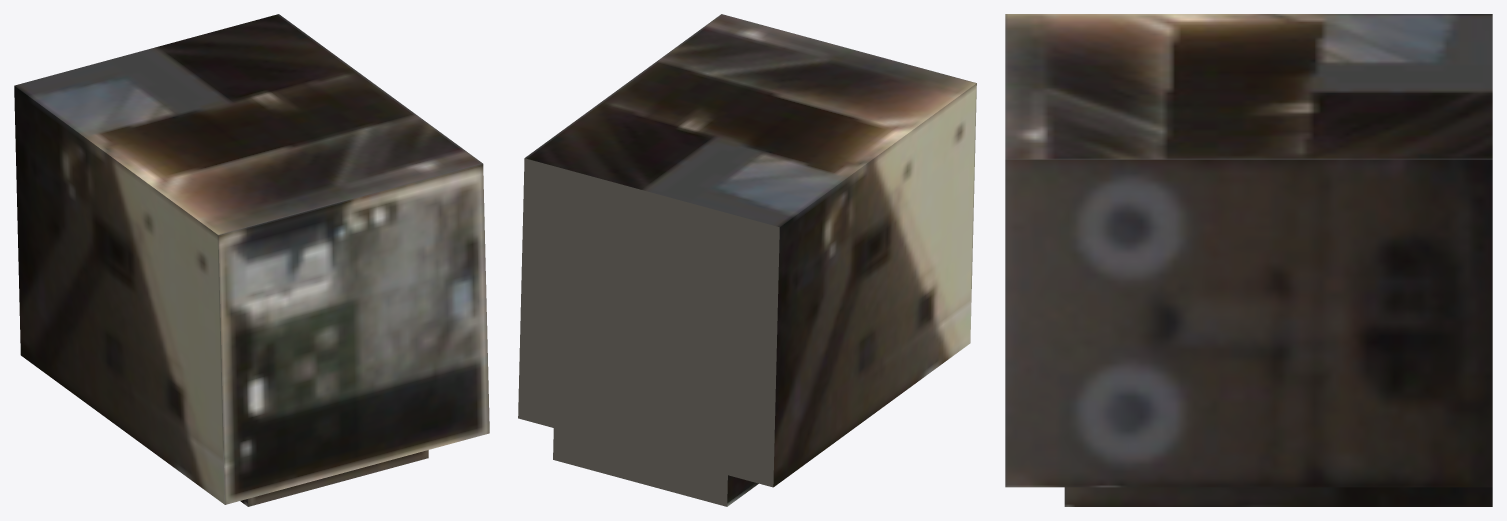
Rendered from KaonoIe.fbx.
The picture shows the model from 3 angles, left to right: view 1: azimuth 30°, elevation 25°; view 2: azimuth 150°, elevation 25°; view 3: azimuth 270°, elevation 25°; orthographic projection. The views are drawn at different scales.
Parts seen in each view (by area): view 1: KaonoIe; view 2: KaonoIe; view 3: KaonoIe.
Part boxes in pixels (x1,y1,x2,y2): KaonoIe: (14, 14, 489, 506); KaonoIe: (518, 14, 976, 506); KaonoIe: (1005, 14, 1492, 506).
Size of the model in its own units: 7.63 by 9.95 by 8.33.
2 materials, 2 textured.
